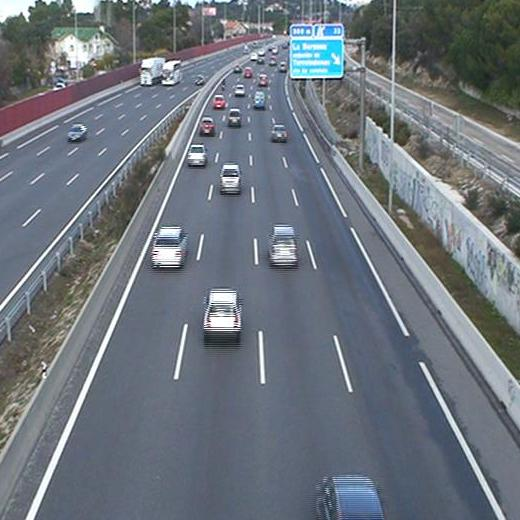car: (204, 292, 240, 333), (152, 227, 184, 266), (271, 226, 297, 266), (221, 164, 238, 192), (187, 145, 206, 166), (271, 124, 287, 141), (228, 108, 241, 127), (199, 117, 213, 134), (213, 95, 225, 109), (234, 84, 244, 97), (258, 74, 269, 85), (243, 67, 253, 78)
motorcycle: (219, 76, 227, 91)
van: (253, 90, 265, 108)
